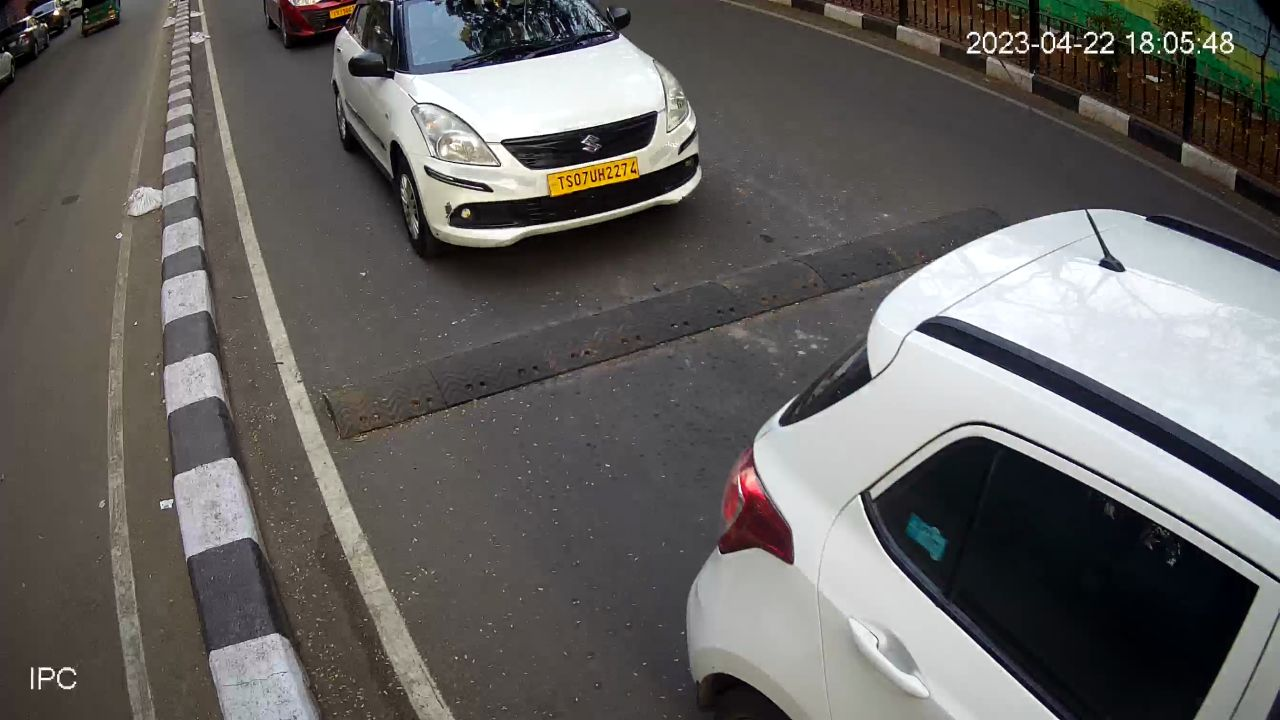license_plate: (539, 153, 646, 201)
